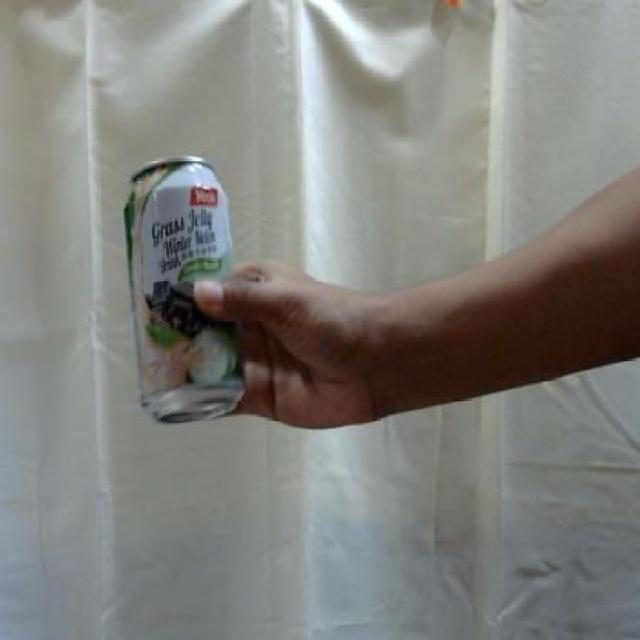Metal: (124, 154, 244, 425)
